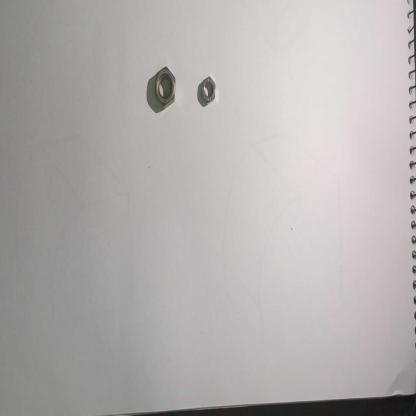NUTS: (155, 62, 180, 109), (200, 72, 218, 106)
